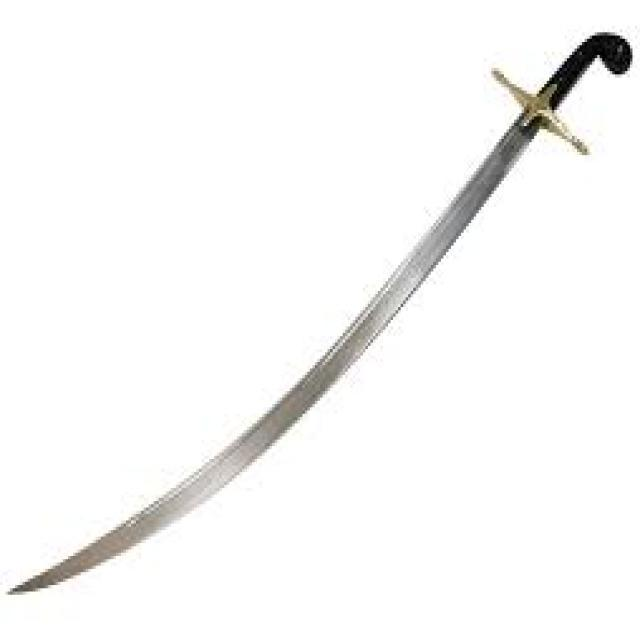long sword: (4, 31, 631, 608)
